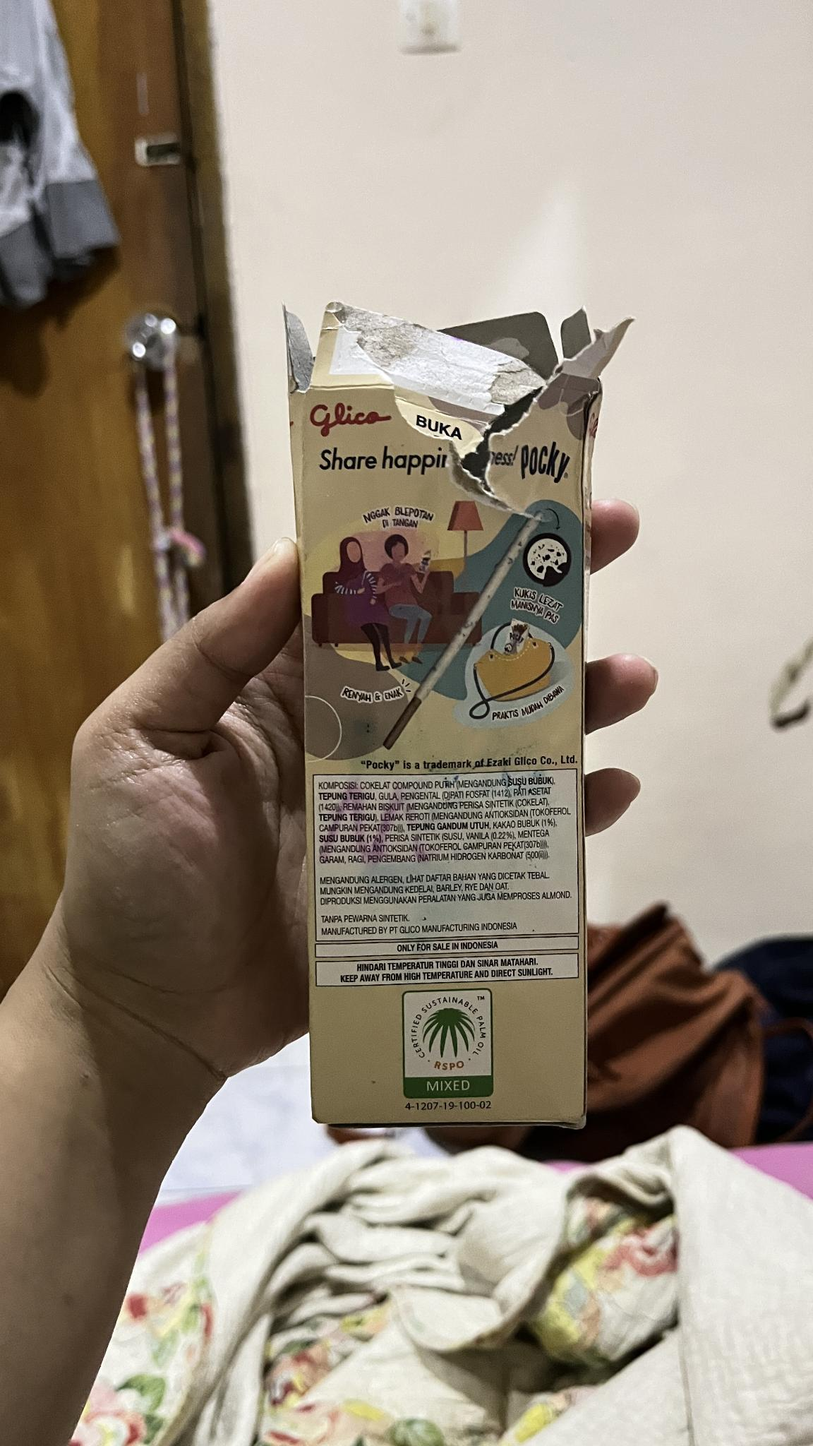Kertas: (301, 384, 591, 1126)
